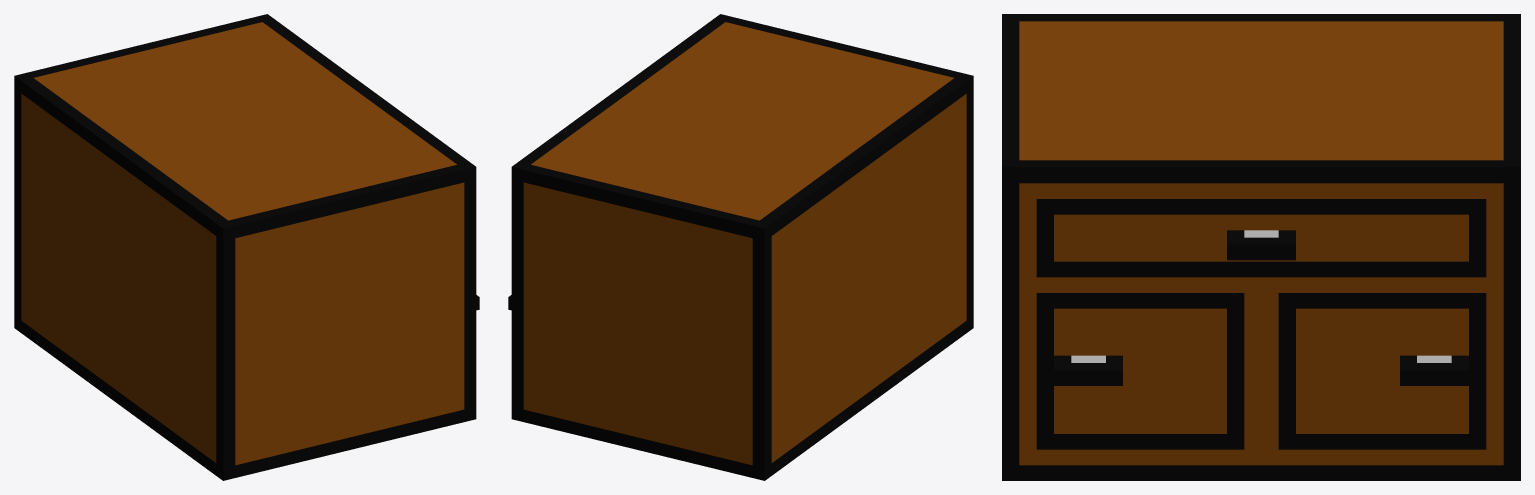
File: KitchenCabinet.obj
3 views of the same model, side by side, from view 1: azimuth 30°, elevation 25°; view 2: azimuth 150°, elevation 25°; view 3: azimuth 270°, elevation 25° (orthographic). The views are drawn at different scales.
Visible parts, largest first — view 1: KitchenCabinet; view 2: KitchenCabinet; view 3: KitchenCabinet.
Part boxes in pixels (x1,y1,x2,y2): KitchenCabinet: (14, 14, 479, 480); KitchenCabinet: (508, 14, 973, 480); KitchenCabinet: (1002, 14, 1520, 480).
Size of the model in its own units: 2.3 by 2 by 3.
1 material, 1 textured.
